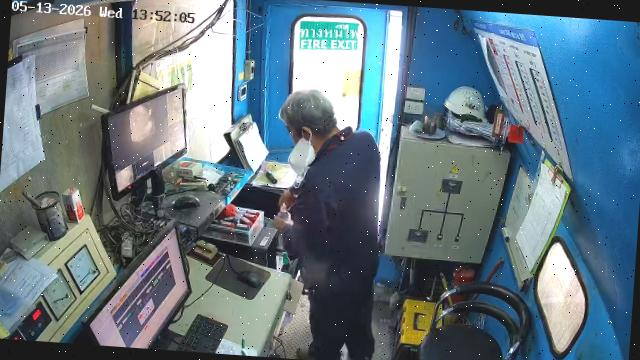Head: (280, 90, 339, 153)
People: (276, 90, 381, 359)
